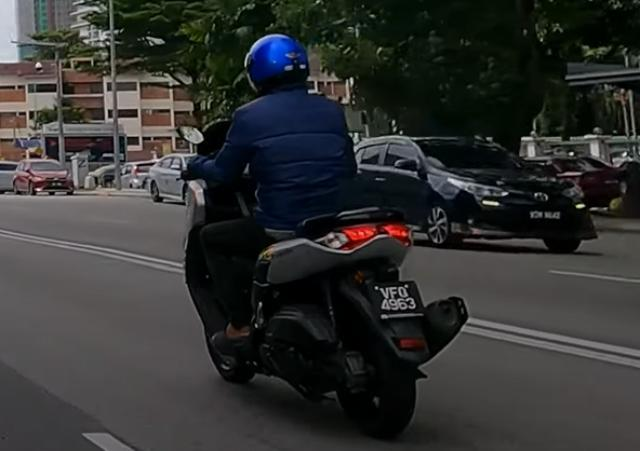License_Plate: (371, 279, 427, 321)
motorcycle: (176, 124, 470, 442)
